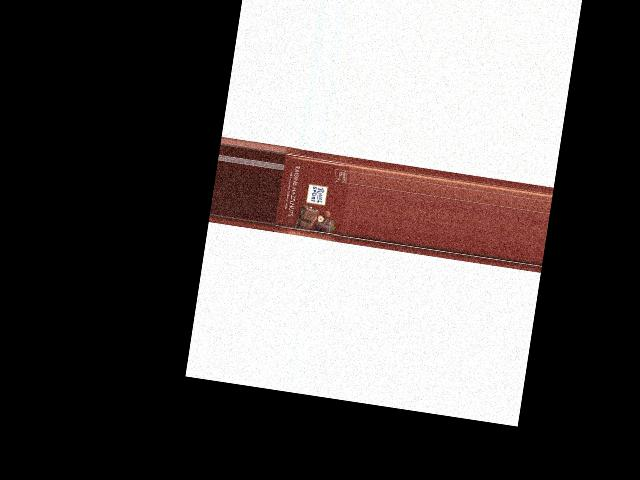chocolate: (272, 146, 352, 243)
